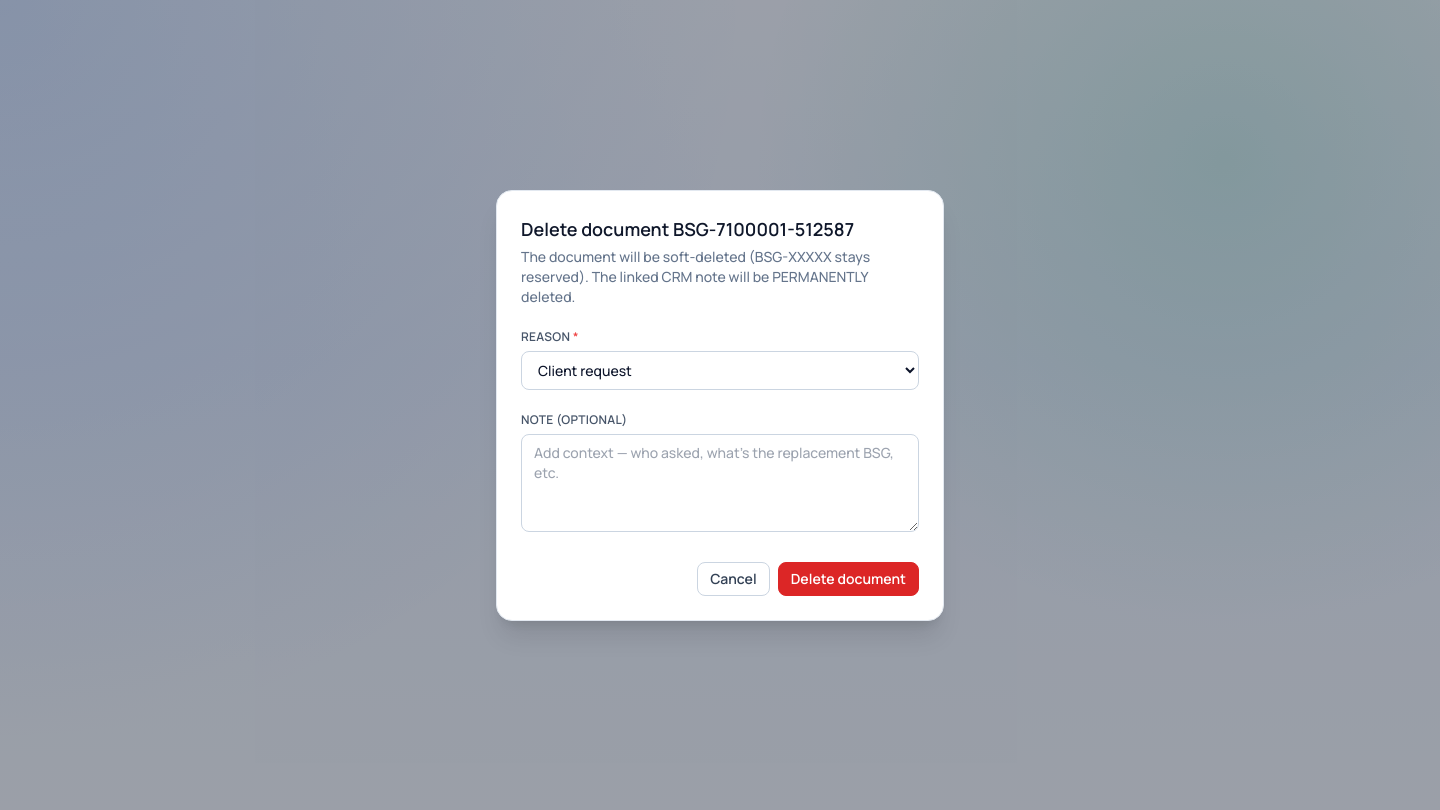
Test: DeleteDocumentModal — server errors › surfaces HUBSPOT_UNREACHABLE with retry hint
Click the button "Delete document" at (848, 578), box [778,562,919,596]
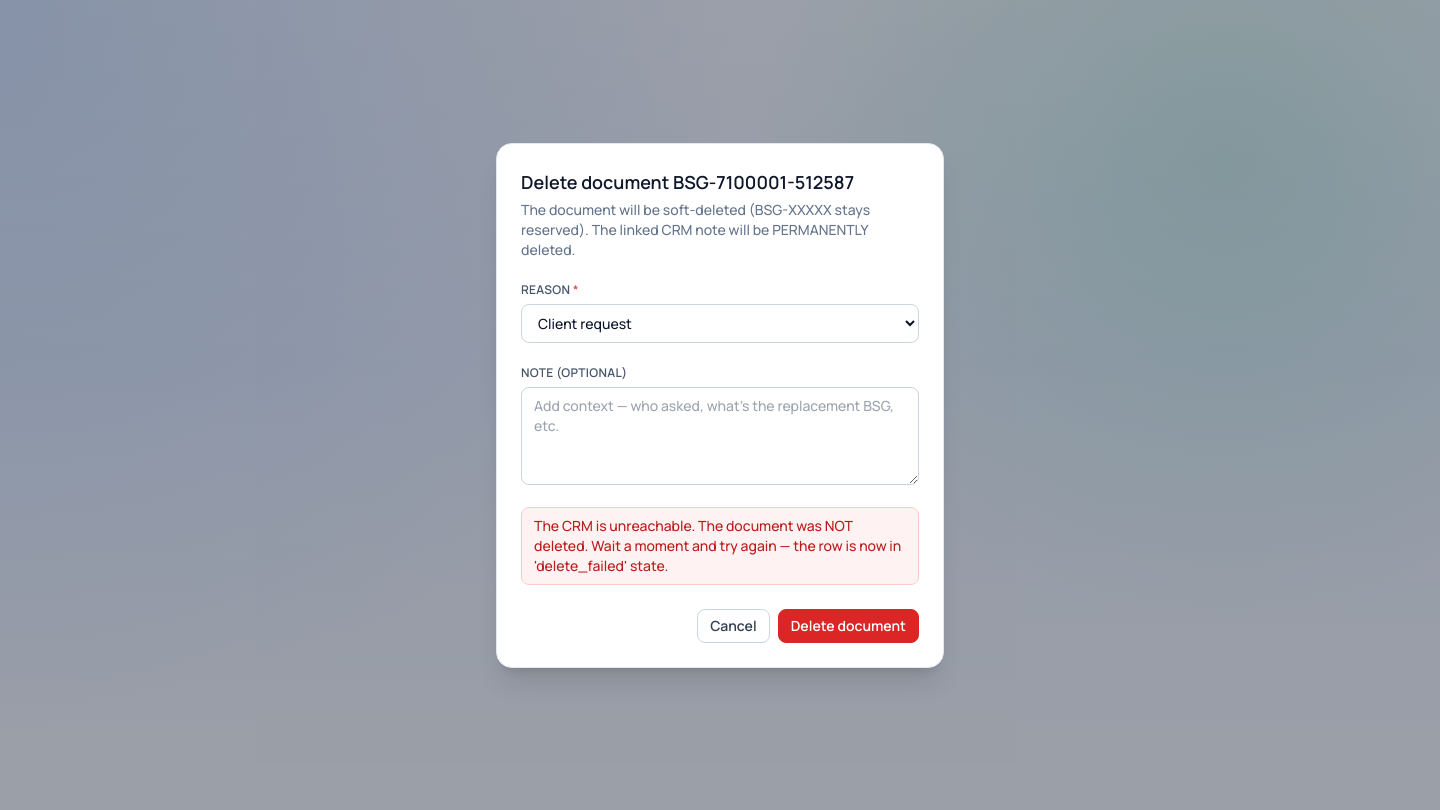
Now the text "CRM is unreachable" is shown, box [534,516,901,574]
